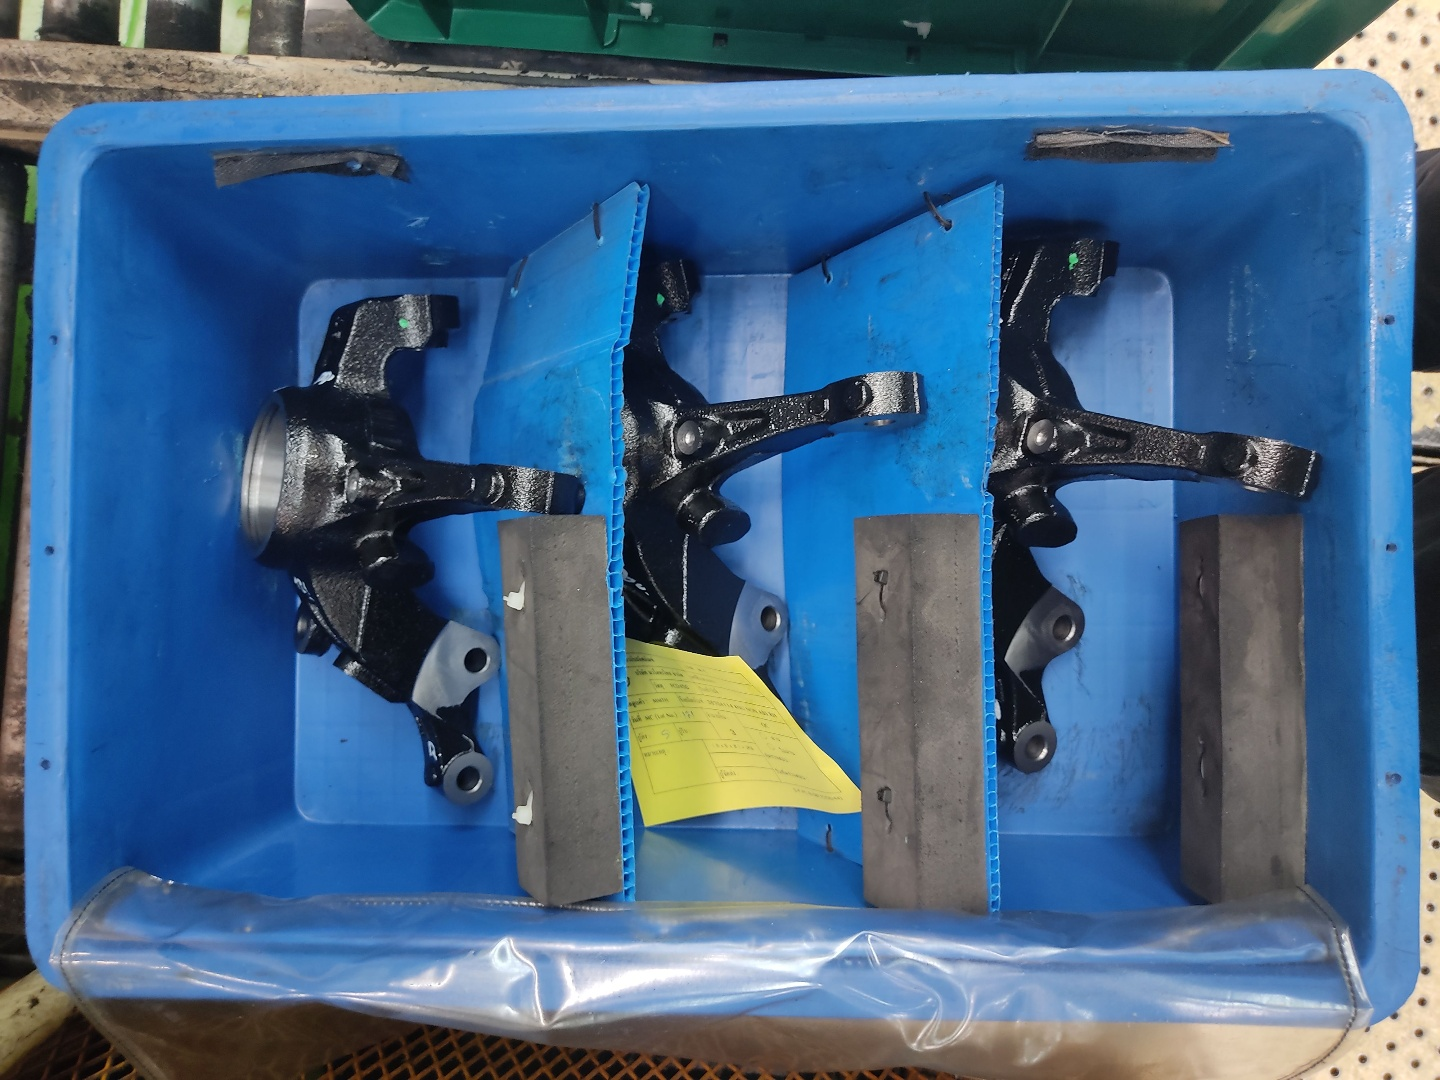non-rh: (983, 216, 1339, 796), (222, 277, 588, 811), (605, 241, 929, 796)
